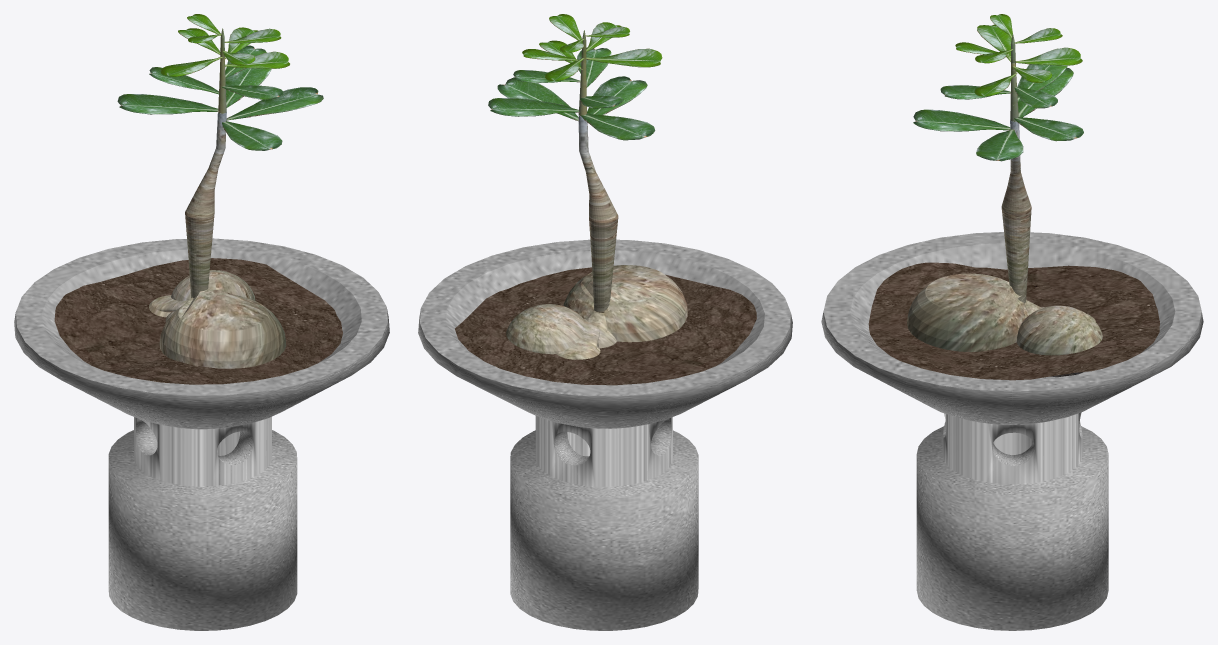
Rendered from Kalachuchi.fbx.
3 views of the same model, side by side, from view 1: azimuth 30°, elevation 25°; view 2: azimuth 150°, elevation 25°; view 3: azimuth 270°, elevation 25° (orthographic).
Parts seen in each view (by area): view 1: Plane.012; view 2: Plane.012; view 3: Plane.012.
Part boxes in pixels (x1,y1,x2,y2): Plane.012: (14,14,389,630); Plane.012: (418,14,792,630); Plane.012: (821,14,1203,630).
Bounding box in the file's own units: 122 × 200 × 122.
19 materials, 19 textured.
